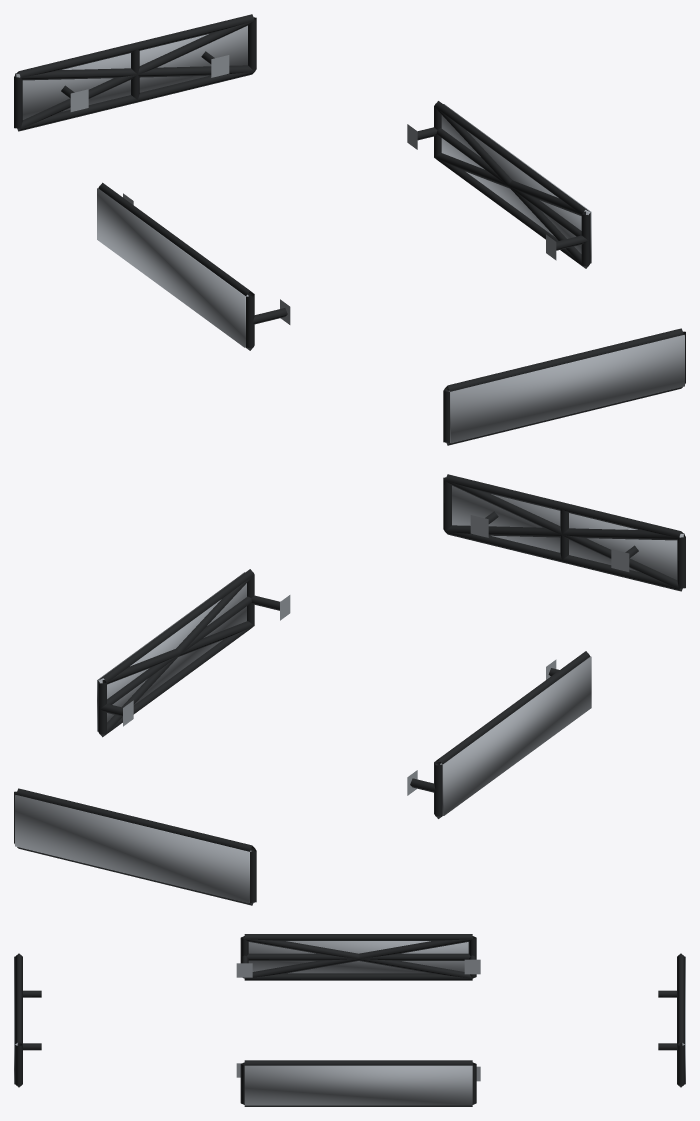
The model's file is rauhe_roca_protecao.glb.
The picture shows the model from 3 angles, top to bottom: view 1: azimuth 30°, elevation 25°; view 2: azimuth 150°, elevation 25°; view 3: azimuth 270°, elevation 25°; orthographic projection. The views are drawn at different scales.
Parts seen in each view (by area): view 1: Protection_front_Level3_Details, Protection_left_Level3_Details, Protection_rear_Level1_Details, Protection_rear_Level3_Details, Protection_right_Level1_Details, Protection_rear_Level2_Details, Protection_right_Level2_Details, Protection_right_Level3_Details, Protection_front_Level1_Details, Protection_left_Level1_Details; view 2: Protection_rear_Level3_Details, Protection_left_Level3_Details, Protection_front_Level1_Details, Protection_front_Level3_Details, Protection_right_Level1_Details, Protection_front_Level2_Details, Protection_right_Level2_Details, Protection_right_Level3_Details, Protection_rear_Level1_Details, Protection_left_Level1_Details; view 3: Protection_right_Level3_Details, Protection_left_Level2_Details, Protection_left_Level1_Details, Protection_left_Level3_Details, Protection_right_Level1_Details, Protection_rear_Level1_Details, Protection_front_Level1_Details.
Boxes of the visible parts, bbox=[...] form: Protection_front_Level3_Details: bbox=[448, 335, 684, 443]; Protection_left_Level3_Details: bbox=[97, 188, 248, 347]; Protection_rear_Level1_Details: bbox=[14, 14, 256, 131]; Protection_rear_Level3_Details: bbox=[15, 25, 247, 119]; Protection_right_Level1_Details: bbox=[407, 101, 590, 268]; Protection_rear_Level2_Details: bbox=[16, 21, 254, 130]; Protection_right_Level2_Details: bbox=[434, 106, 589, 268]; Protection_right_Level3_Details: bbox=[441, 104, 591, 263]; Protection_front_Level1_Details: bbox=[443, 328, 685, 445]; Protection_left_Level1_Details: bbox=[98, 182, 290, 350]; Protection_rear_Level3_Details: bbox=[15, 795, 251, 903]; Protection_left_Level3_Details: bbox=[440, 656, 591, 815]; Protection_front_Level1_Details: bbox=[443, 474, 685, 591]; Protection_front_Level3_Details: bbox=[452, 485, 684, 579]; Protection_right_Level1_Details: bbox=[98, 569, 290, 737]; Protection_front_Level2_Details: bbox=[445, 481, 683, 590]; Protection_right_Level2_Details: bbox=[99, 575, 254, 736]; Protection_right_Level3_Details: bbox=[97, 572, 246, 731]; Protection_rear_Level1_Details: bbox=[14, 788, 256, 905]; Protection_left_Level1_Details: bbox=[407, 651, 590, 818]; Protection_right_Level3_Details: bbox=[244, 1065, 472, 1105]; Protection_left_Level2_Details: bbox=[244, 937, 472, 978]; Protection_left_Level1_Details: bbox=[236, 934, 480, 980]; Protection_left_Level3_Details: bbox=[248, 941, 468, 973]; Protection_right_Level1_Details: bbox=[236, 1060, 480, 1106]; Protection_rear_Level1_Details: bbox=[658, 953, 684, 1087]; Protection_front_Level1_Details: bbox=[15, 953, 41, 1087].
Size of the model in its own units: 2.13 by 0.354 by 4.63.
1 material, 1 textured.
